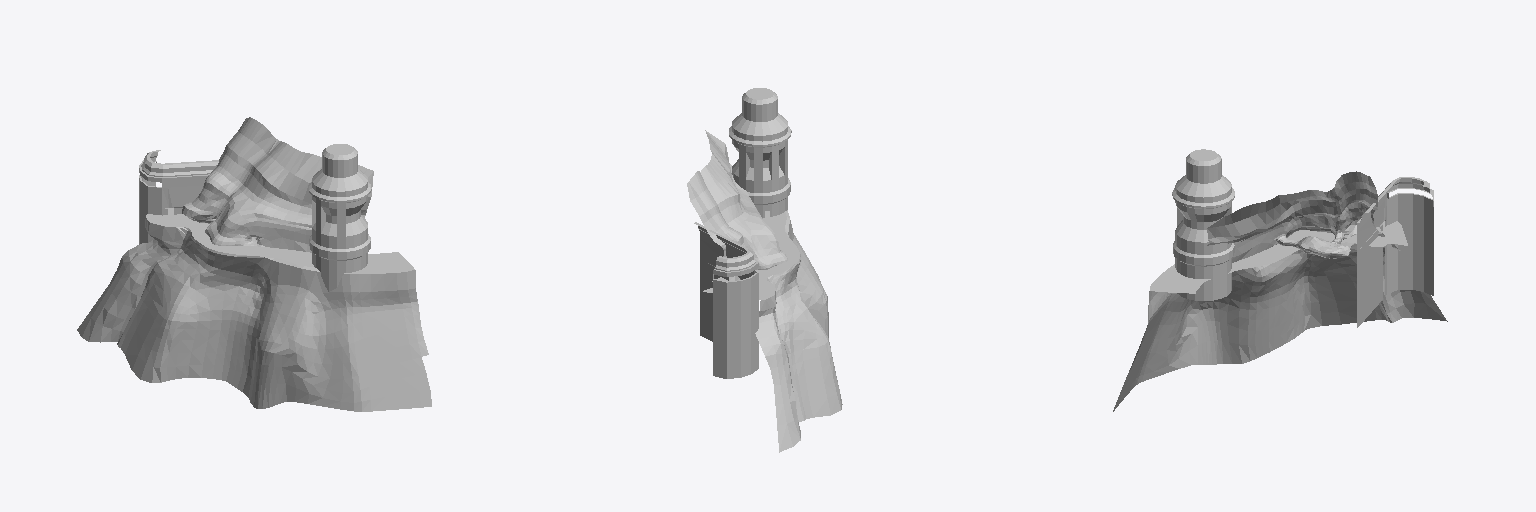
File: cliffs.obj
The picture shows the model from 3 angles: view 1: azimuth 30°, elevation 25°; view 2: azimuth 150°, elevation 25°; view 3: azimuth 270°, elevation 25°; orthographic projection.
Parts seen in each view (by area): view 1: cliff_2 group12, group12 cliff_1, group12 silo_2, group12 silo; view 2: cliff_2 group12, group12 silo, group12 silo_2, group12 cliff_1; view 3: cliff_2 group12, group12 cliff_1, group12 silo, group12 silo_2.
Part boxes in pixels (x1,y1,x2,y2): cliff_2 group12: (77,208,431,411); group12 cliff_1: (182,117,373,252); group12 silo_2: (309,144,371,291); group12 silo: (139,150,218,244); cliff_2 group12: (703,210,842,452); group12 silo: (694,222,758,378); group12 silo_2: (729,88,791,217); group12 cliff_1: (687,130,787,280); cliff_2 group12: (1113,221,1447,411); group12 cliff_1: (1207,171,1384,262); group12 silo: (1357,177,1433,327); group12 silo_2: (1172,149,1234,300).
Size of the model in its own units: 29.76 by 35.01 by 43.22.